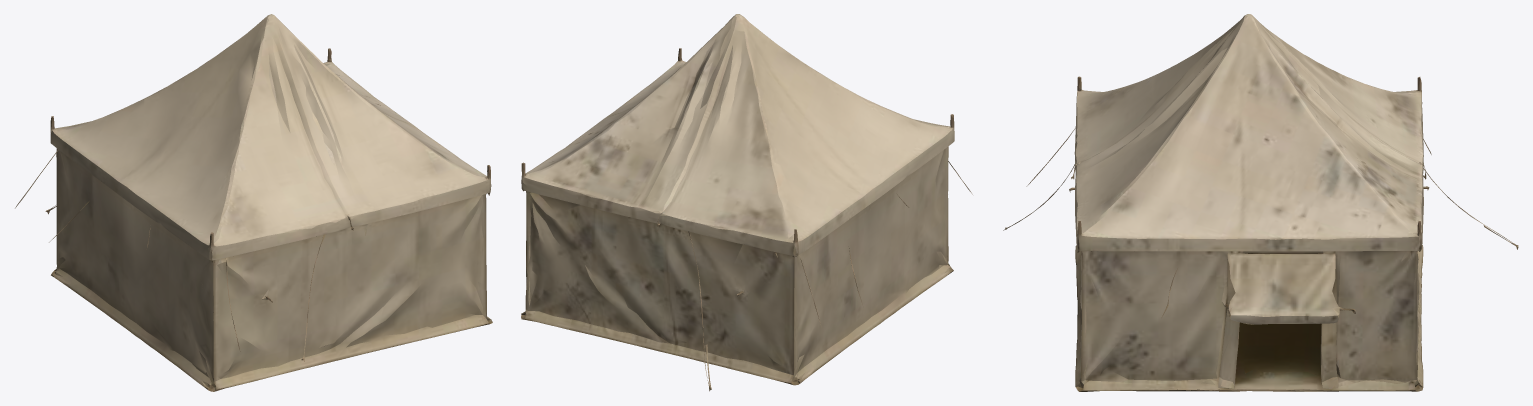
The model's file is tent_military.glb.
The picture shows the model from 3 angles, left to right: view 1: azimuth 30°, elevation 25°; view 2: azimuth 150°, elevation 25°; view 3: azimuth 270°, elevation 25°; orthographic projection. The views are drawn at different scales.
Parts seen in each view (by area): view 1: tent_military; view 2: tent_military; view 3: tent_military.
Boxes of the visible parts, x1=… form: tent_military: x1=15, y1=14, x2=492, y2=391; tent_military: x1=521, y1=14, x2=972, y2=391; tent_military: x1=1003, y1=14, x2=1518, y2=391.
Size of the model in its own units: 4.94 by 3.89 by 6.
Materials: 1 (1 with a texture image).
